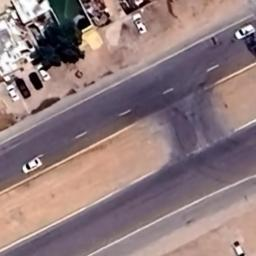SUV: (16, 78, 32, 99)
sedan: (21, 156, 42, 175), (28, 71, 44, 91), (6, 84, 20, 102), (37, 64, 51, 82)
truck: (132, 12, 148, 34)
unknown: (232, 241, 244, 256)
van: (234, 24, 256, 40)
